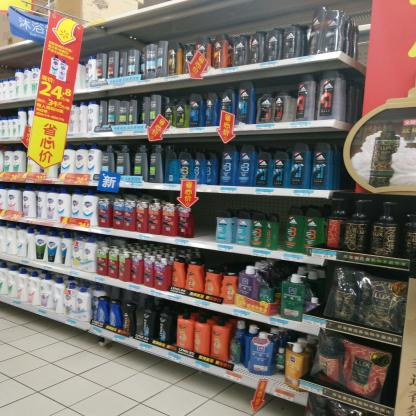Void: (195, 197, 211, 238)
